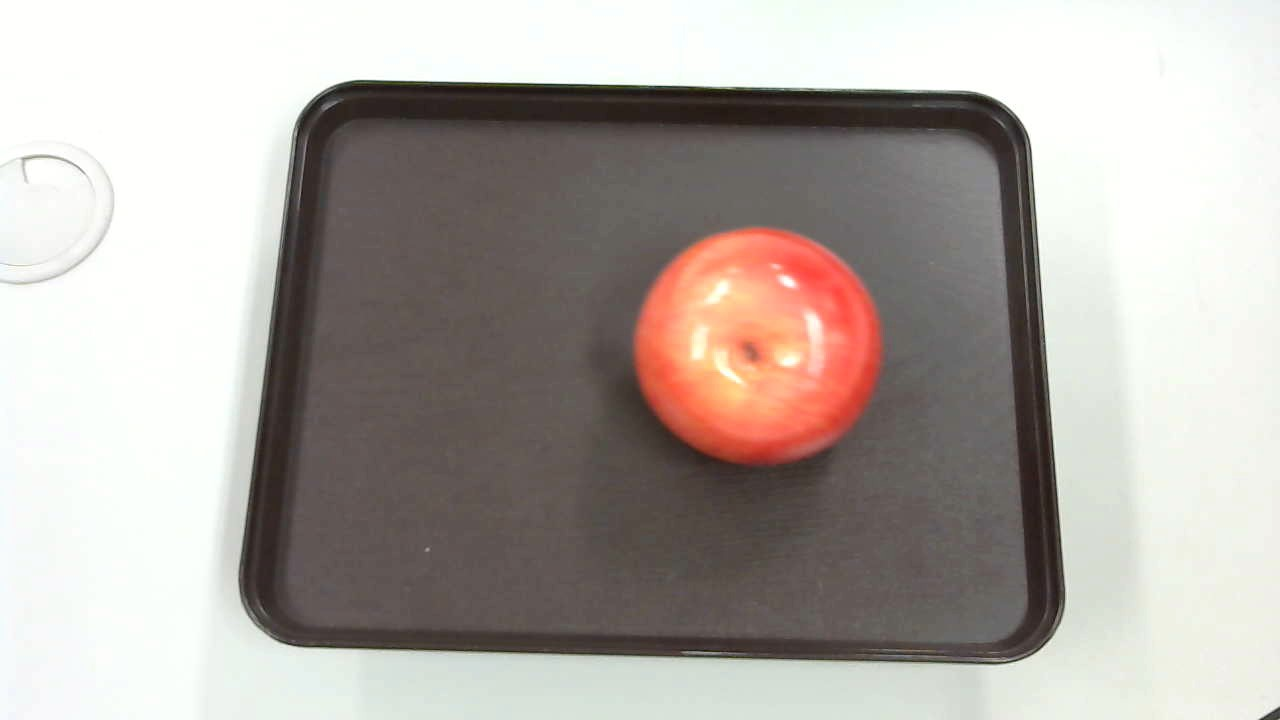red apple: (620, 220, 900, 486)
